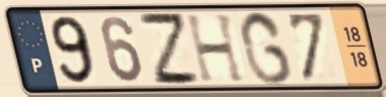6: (98, 14, 144, 85)
7: (285, 10, 327, 84)
9: (50, 13, 97, 86)
G: (237, 8, 296, 87)
H: (182, 11, 249, 85)
Z: (135, 10, 205, 88)
